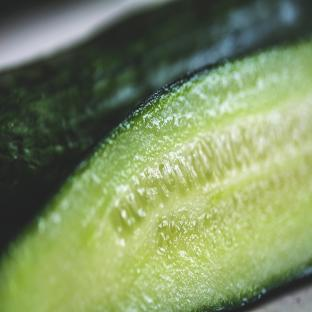Cucumber: (0, 41, 311, 311), (0, 0, 311, 249)
